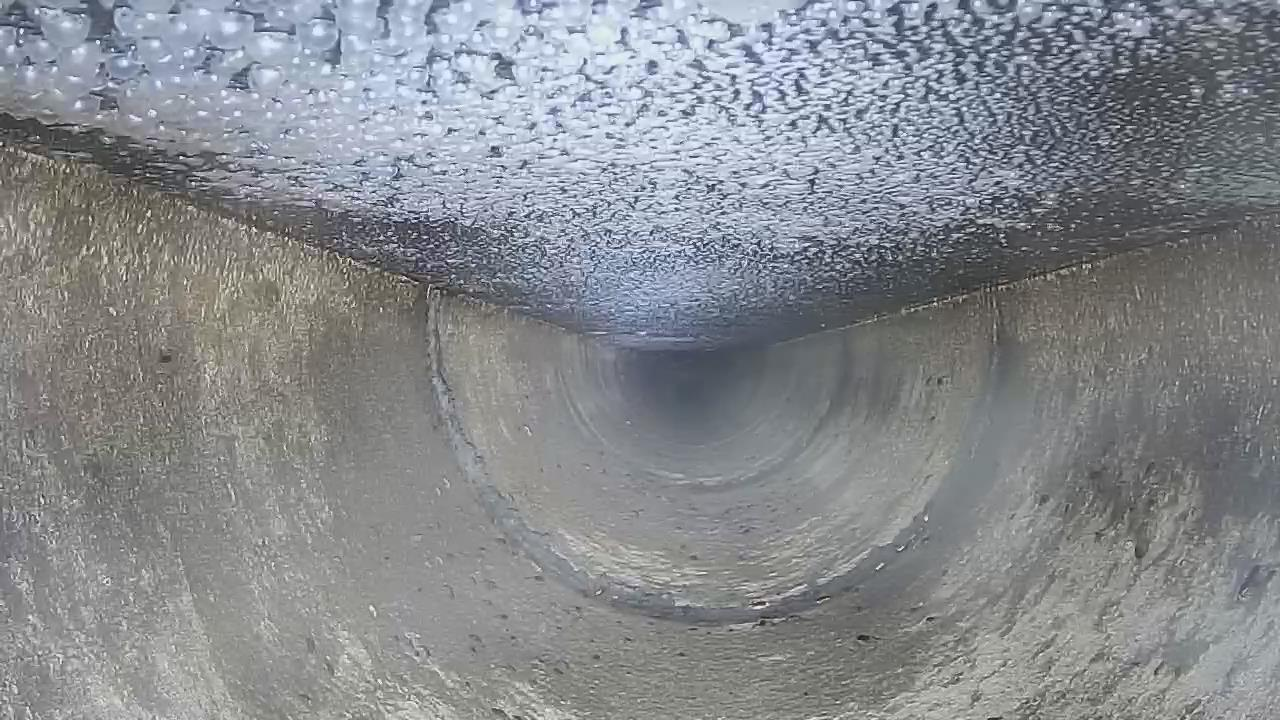CKTJ: (411, 275, 1008, 632)
FZ: (0, 1, 1279, 348)
